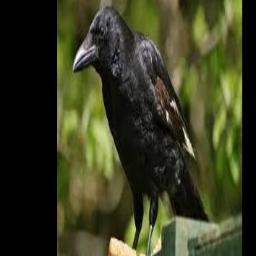Crow: (72, 5, 212, 256)
